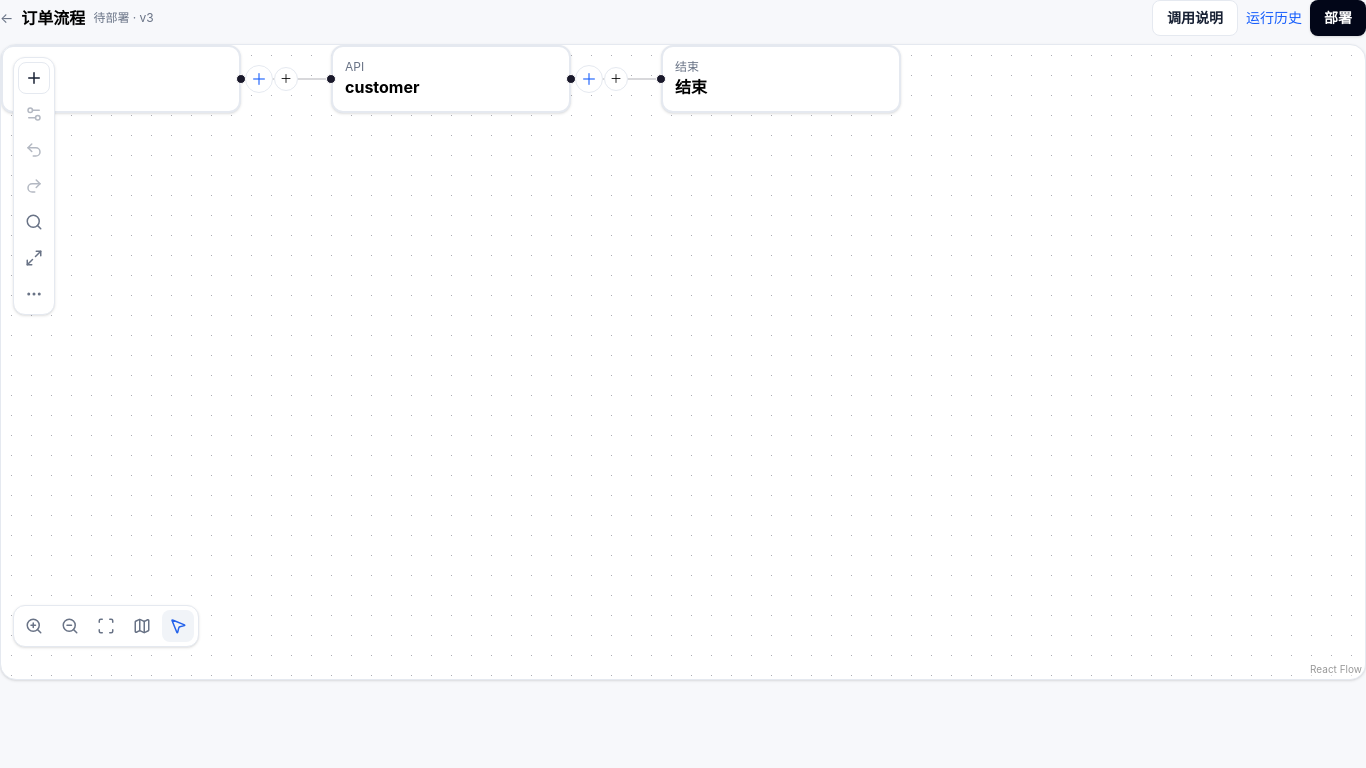
workflow editor › locates missing workflow metadata before making an invalid save request
The width and height of the screenshot is (1366, 768).
Click the button "部署": point(1338, 18) [1310,0,1365,36]
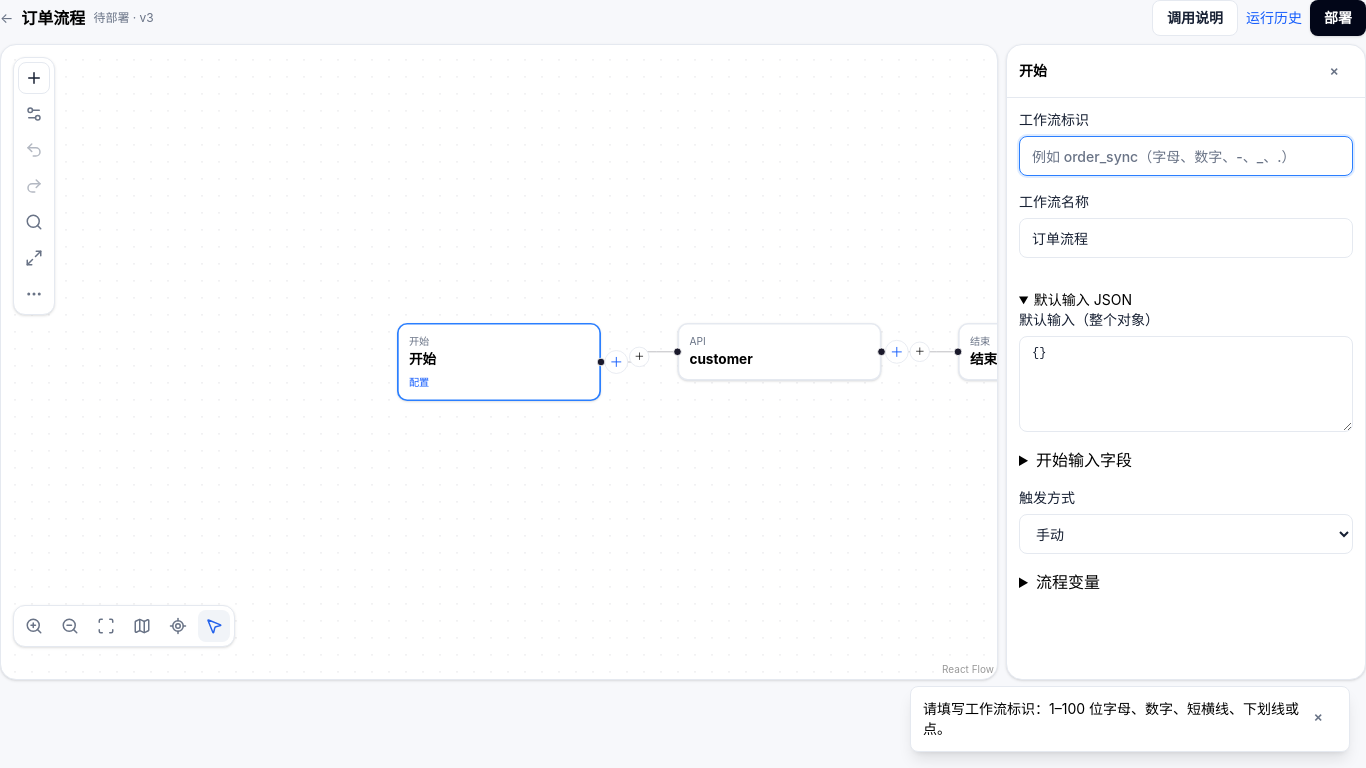
expect the text "× 请填写工作流标识：1–100 位字母、数字、短横线、下划线或点。" is shown: met, box [910,686,1350,752]
expect the field labelled "工作流标识" is shown: met, box [1019,136,1353,176]
